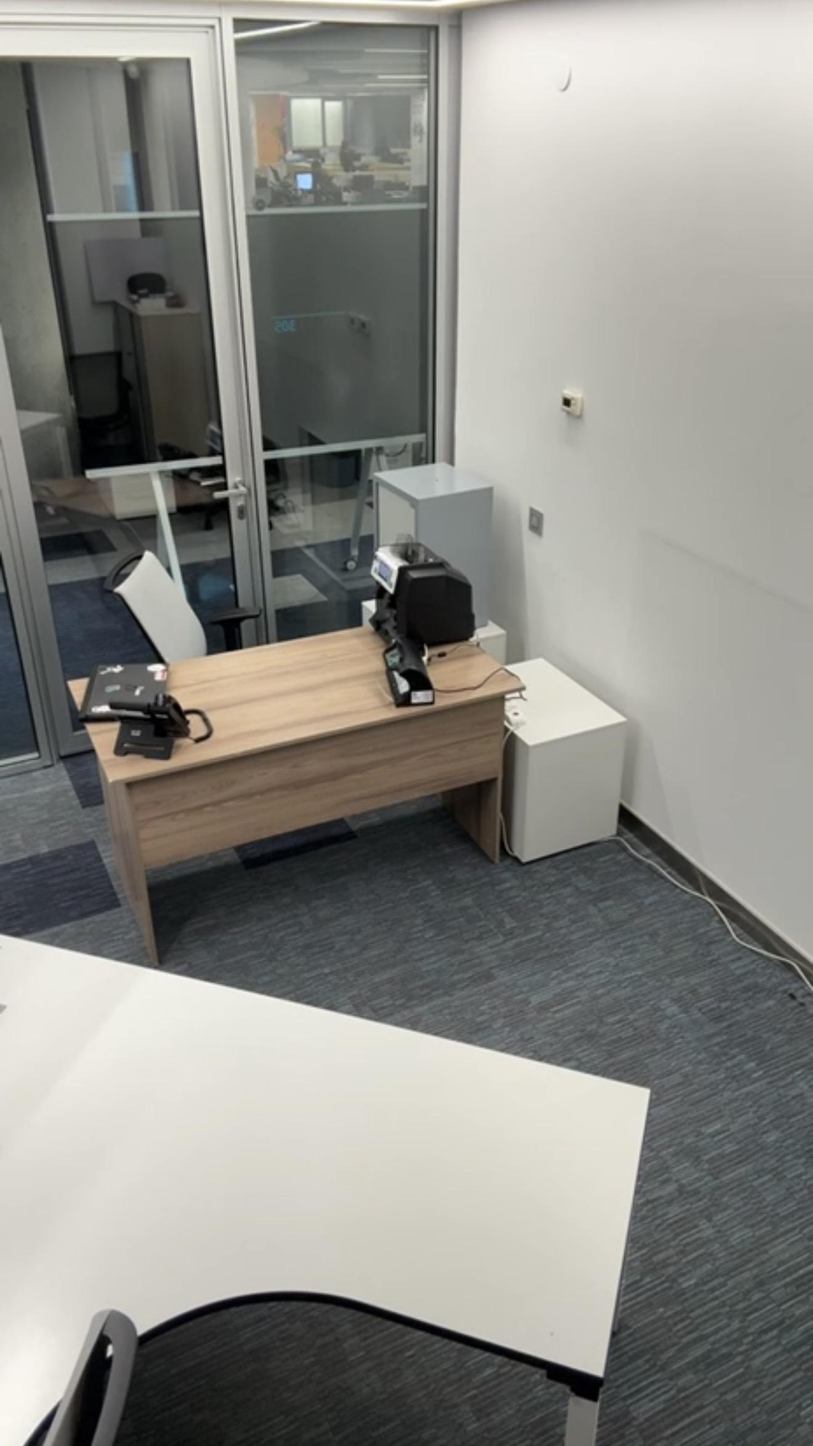counter: (365, 542, 472, 647)
uv_lamp: (378, 639, 433, 709)
